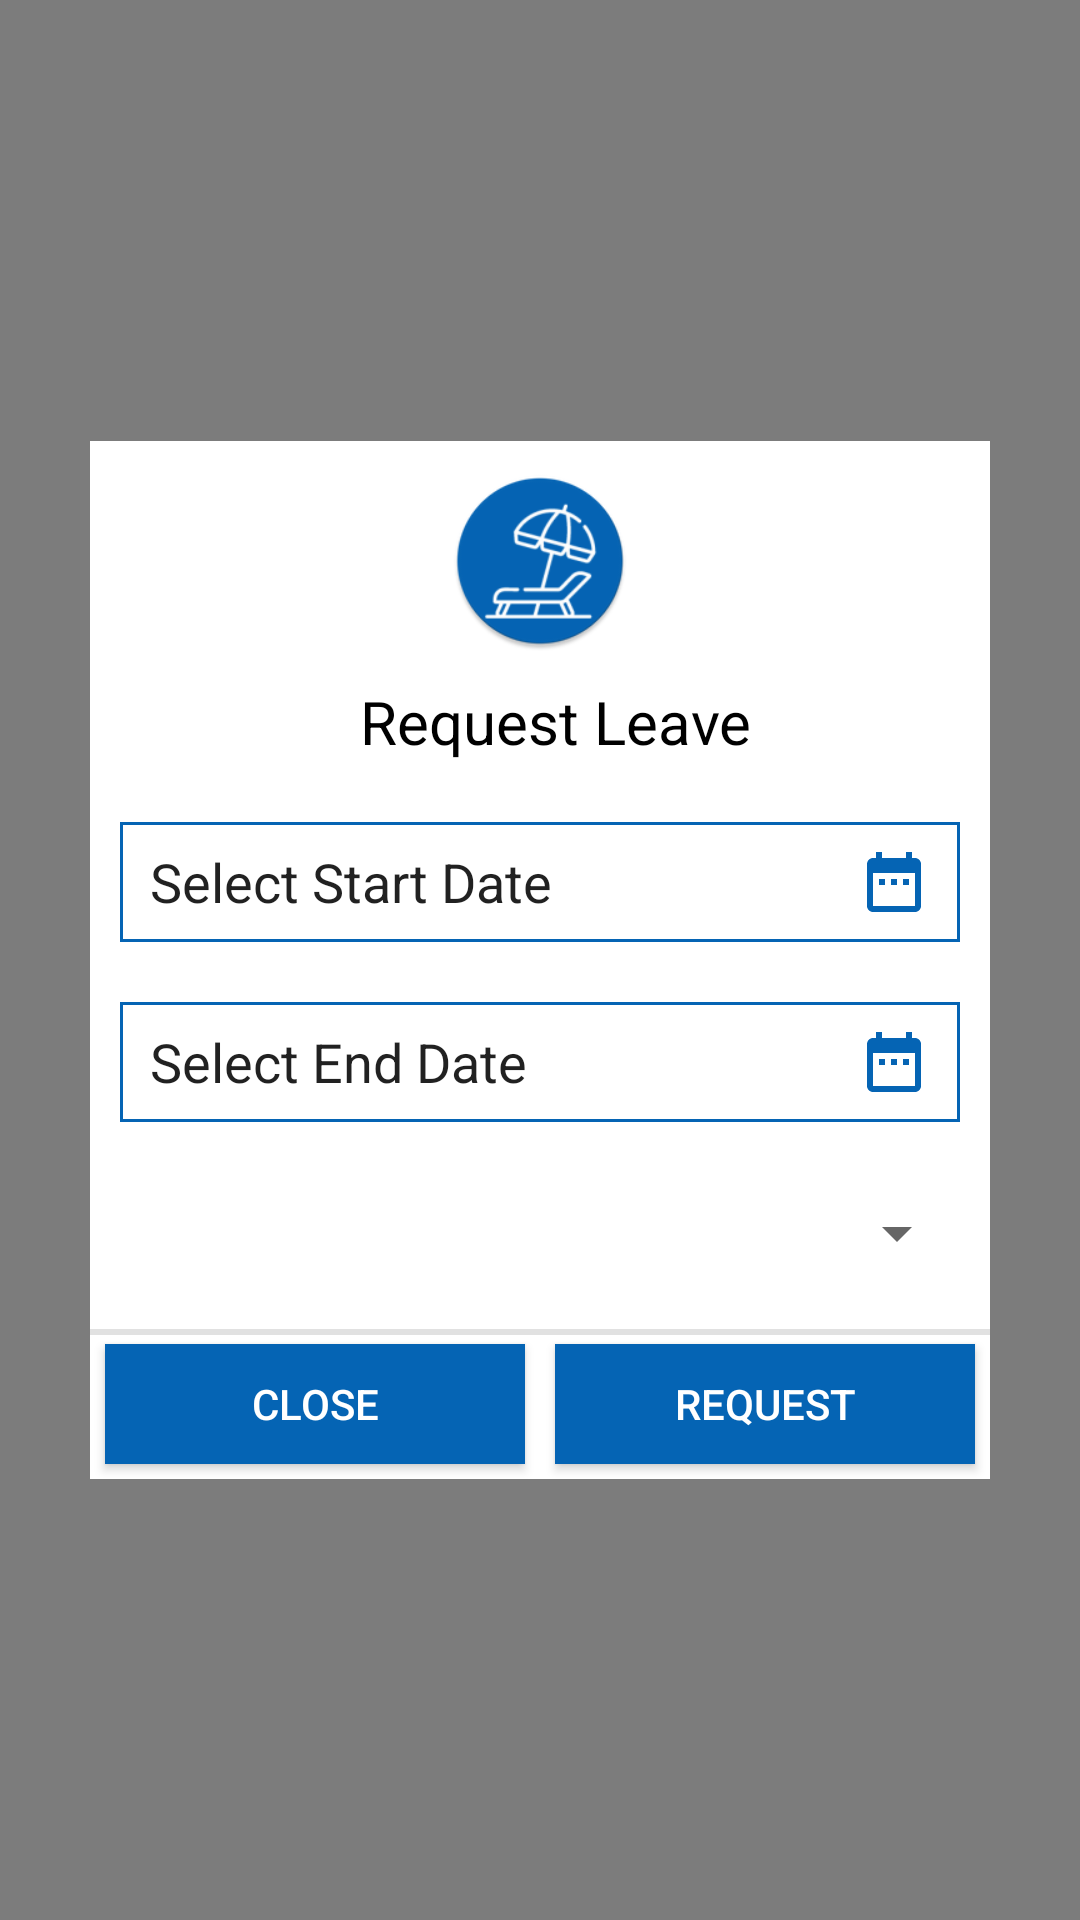

Icon bounding boxes for this 1080x1920 phone screenshot, format (x1, y1, x2, y2):
leave round: (456, 477, 624, 648)
